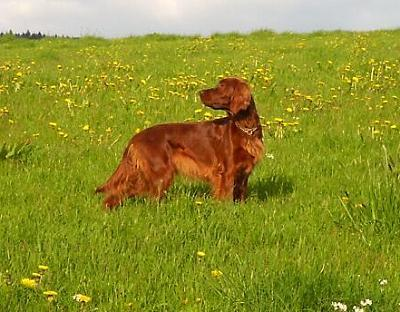Irish_setter: (93, 78, 266, 211)
